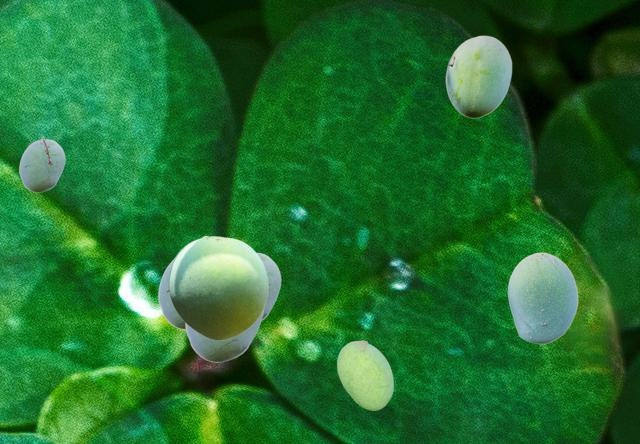green_mango: (168, 235, 267, 339), (507, 252, 577, 343), (445, 35, 511, 117), (185, 312, 263, 361), (337, 340, 392, 409), (19, 136, 64, 191), (158, 260, 184, 328), (257, 252, 280, 320)
